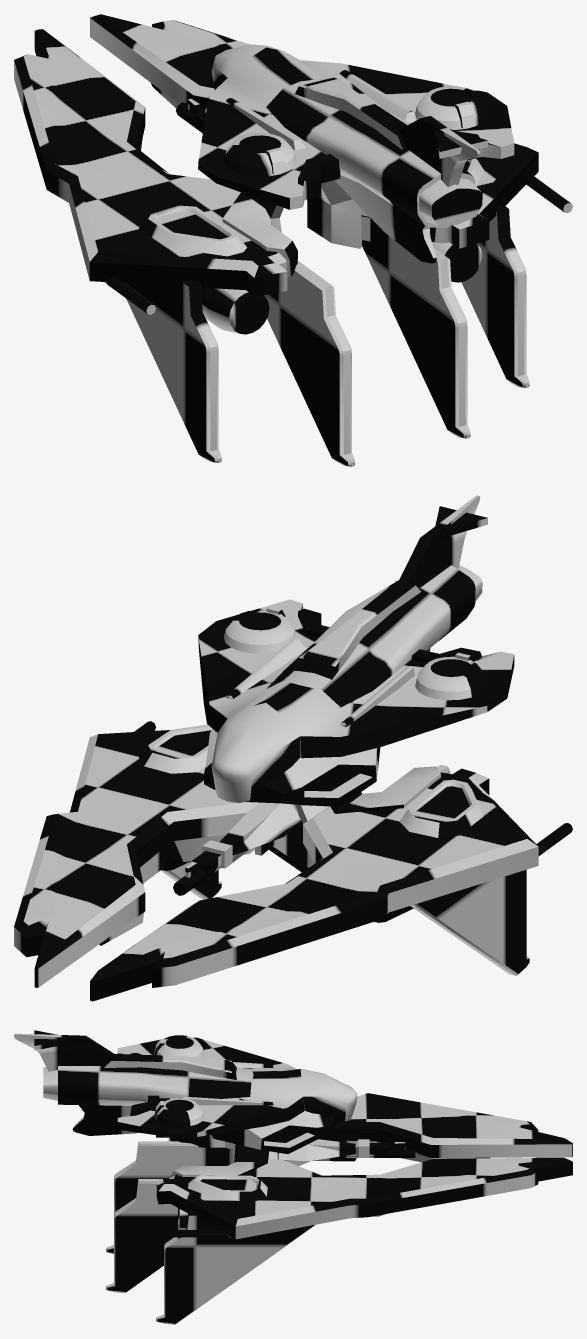
The model's file is hammerclaw.obj.
3 views of the same model, one above another, from view 1: azimuth 30°, elevation 25°; view 2: azimuth 150°, elevation 25°; view 3: azimuth 270°, elevation 25° (orthographic). The views are drawn at different scales.
Visible parts, largest first — view 1: ship_clawhammer; view 2: ship_clawhammer; view 3: ship_clawhammer.
Boxes of the visible parts, left/top/right/bottom form: ship_clawhammer: left=14, top=14, right=572, bottom=466; ship_clawhammer: left=14, top=495, right=572, bottom=1001; ship_clawhammer: left=14, top=1030, right=572, bottom=1324.
Size of the model in its own units: 83.29 by 62.98 by 133.
Materials: 1 (1 with a texture image).
